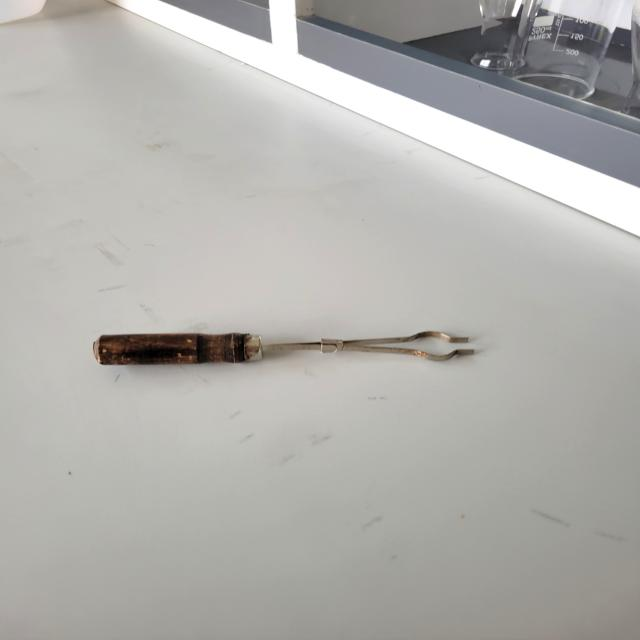TestTube_Holder: (57, 314, 483, 401)
